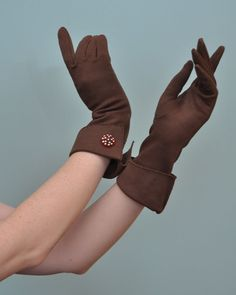gloves: (110, 34, 226, 200), (57, 25, 127, 172)
